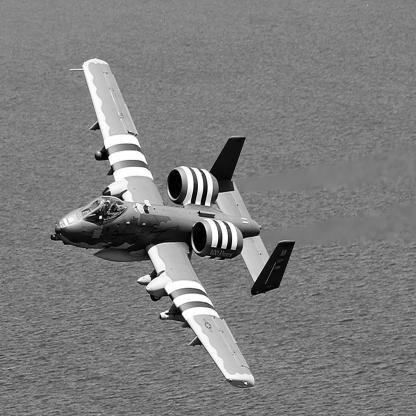A10: (52, 58, 297, 389)
